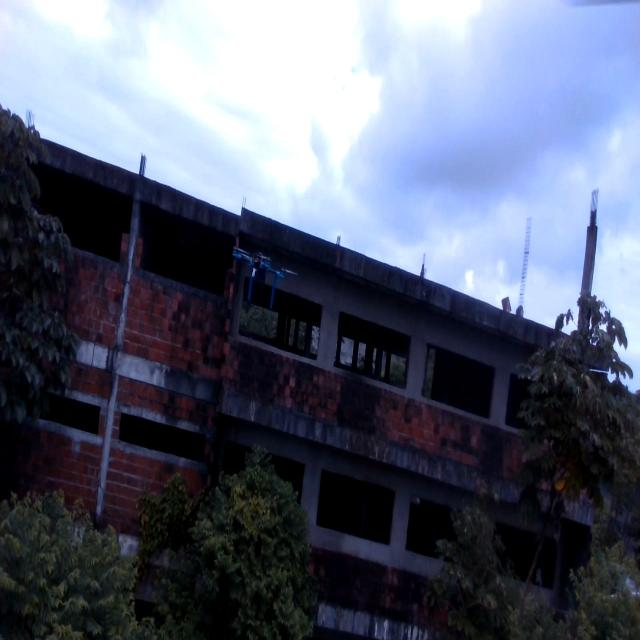-uav-: (230, 237, 298, 320)
